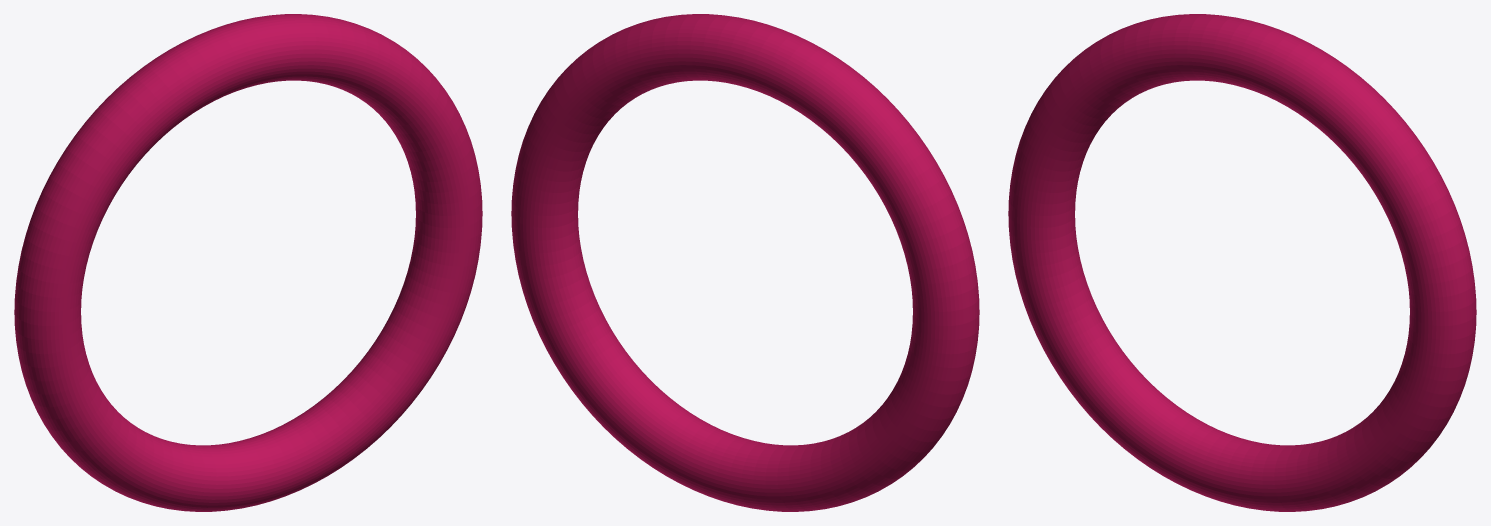
The picture shows the model from 3 angles, left to right: view 1: azimuth 30°, elevation 25°; view 2: azimuth 150°, elevation 25°; view 3: azimuth 330°, elevation 25°; orthographic projection.
Parts seen in each view (by area): view 1: world; view 2: world; view 3: world.
Part boxes in pixels (bbox=[...]): world: bbox=[14, 14, 482, 511]; world: bbox=[511, 14, 979, 511]; world: bbox=[1008, 14, 1476, 511].
Bounding box in the file's own units: 24.4 × 24.4 × 3.06.
